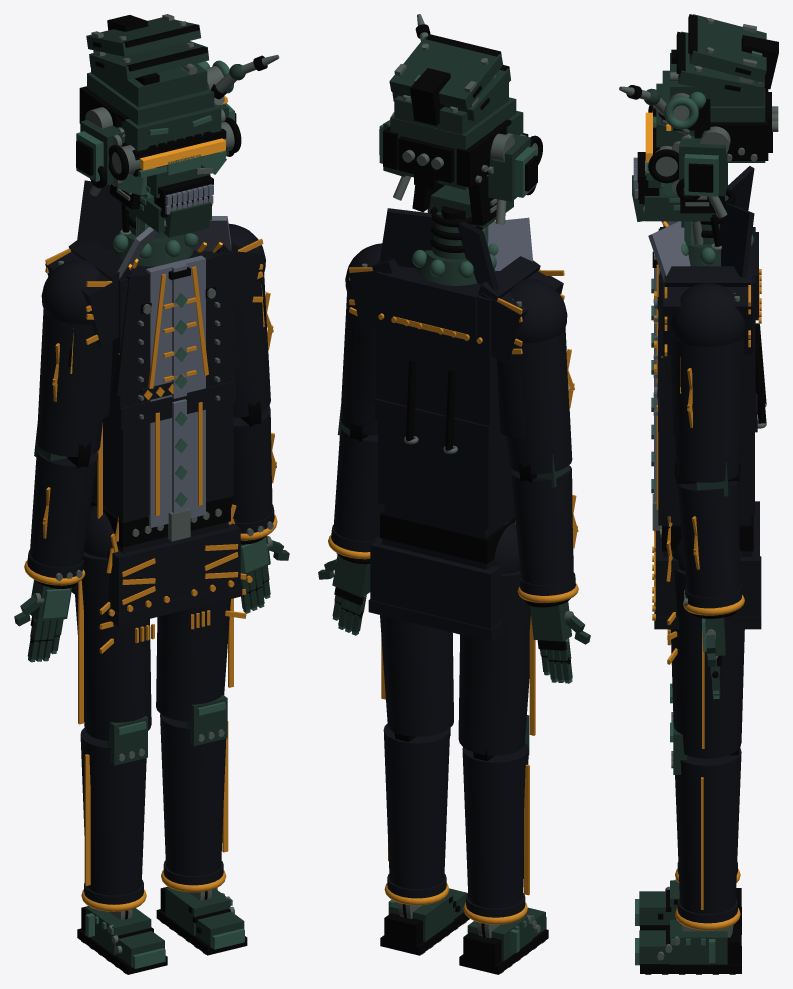
File: android-bust.obj
3 renders of one model, left to right at view 1: azimuth 30°, elevation 25°; view 2: azimuth 150°, elevation 25°; view 3: azimuth 270°, elevation 25°, orthographic.
Visible parts, largest first — view 1: shin_l, thigh_r, shin_r, thigh_l, jacket_skirt, upper_sleeve_r, fore_sleeve_r, shirt_front, fore_sleeve_l, jacket_body, shirt_lower, jacket_front_panel_r (+53 smaller); view 2: jacket_body, jacket_waist, thigh_r, shin_l, shin_r, jacket_skirt, thigh_l, upper_sleeve_r, fore_sleeve_r, fore_sleeve_l, back_yoke, crest_plate_1 (+43 smaller); view 3: shin_l, upper_sleeve_l, thigh_l, fore_sleeve_l, shoulder_ball_l, crest_plate_1, jacket_skirt, jacket_waist, jacket_body, collar_back_leaf_l, boot_body_l, temple_recess_l (+41 smaller).
Boxes of the visible parts, left/top/right/bottom form: shin_l: left=160, top=714, right=226, bottom=876; thigh_r: left=74, top=552, right=151, bottom=740; shin_r: left=80, top=728, right=146, bottom=895; thigh_l: left=156, top=518, right=236, bottom=721; jacket_skirt: left=107, top=523, right=240, bottom=613; upper_sleeve_r: left=36, top=309, right=103, bottom=456; fore_sleeve_r: left=30, top=450, right=98, bottom=567; shirt_front: left=146, top=255, right=205, bottom=401; fore_sleeve_l: left=231, top=405, right=272, bottom=523; jacket_body: left=108, top=250, right=234, bottom=424; shirt_lower: left=148, top=409, right=205, bottom=527; jacket_front_panel_r: left=118, top=423, right=149, bottom=523; jacket_body: left=376, top=266, right=501, bottom=442; jacket_waist: left=378, top=421, right=514, bottom=529; thigh_r: left=458, top=571, right=530, bottom=755; shin_l: left=383, top=723, right=450, bottom=889; shin_r: left=462, top=743, right=528, bottom=908; jacket_skirt: left=370, top=538, right=502, bottom=629; thigh_l: left=374, top=536, right=453, bottom=736; upper_sleeve_r: left=506, top=327, right=572, bottom=474; fore_sleeve_r: left=511, top=465, right=573, bottom=584; fore_sleeve_l: left=333, top=428, right=384, bottom=541; back_yoke: left=386, top=272, right=479, bottom=340; crest_plate_1: left=389, top=36, right=503, bottom=109; shin_l: left=675, top=748, right=741, bottom=914; upper_sleeve_l: left=672, top=337, right=742, bottom=482; thigh_l: left=670, top=569, right=744, bottom=758; fore_sleeve_l: left=677, top=481, right=739, bottom=597; shoulder_ball_l: left=670, top=283, right=745, bottom=346; crest_plate_1: left=689, top=14, right=766, bottom=82; jacket_skirt: left=655, top=501, right=759, bottom=616; jacket_waist: left=660, top=432, right=754, bottom=516; jacket_body: left=660, top=227, right=755, bottom=428; collar_back_leaf_l: left=719, top=203, right=754, bottom=277; boot_body_l: left=670, top=919, right=727, bottom=964; temple_recess_l: left=694, top=118, right=768, bottom=160.
Size of the model in its own units: 0.611 by 1.95 by 0.3097.
